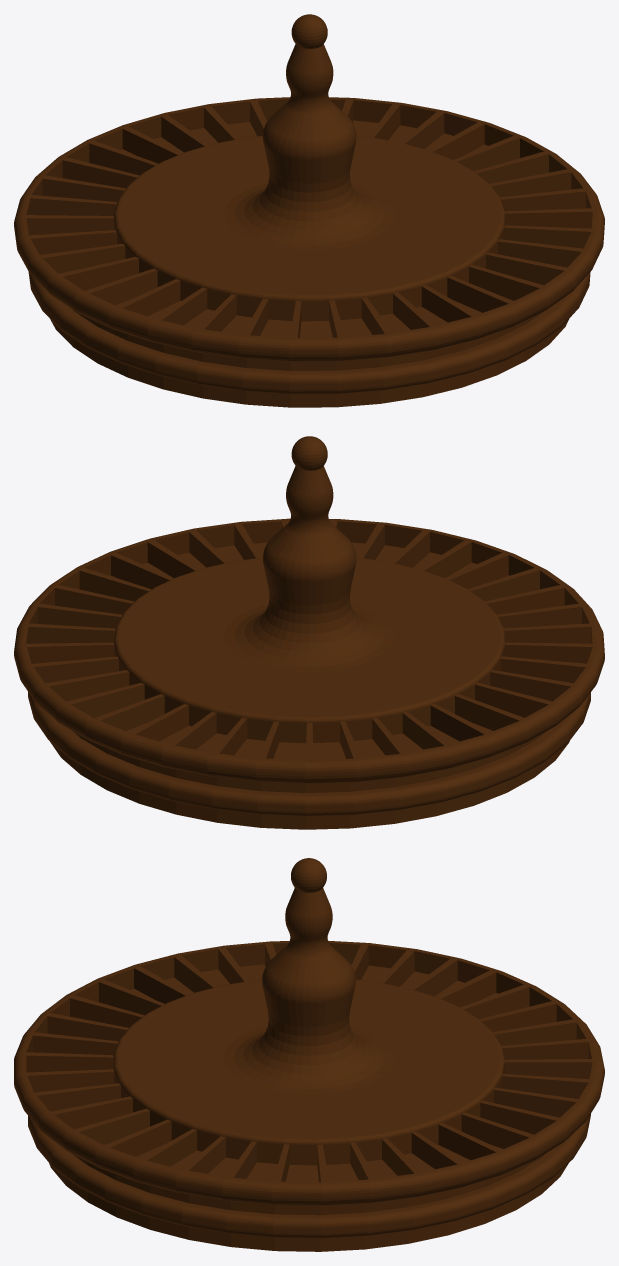
File: titble_wheel.glb
The picture shows the model from 3 angles, top to bottom: view 1: azimuth 30°, elevation 25°; view 2: azimuth 150°, elevation 25°; view 3: azimuth 270°, elevation 25°; orthographic projection.
Parts seen in each view (by area): view 1: cutout; view 2: cutout; view 3: cutout.
Boxes of the visible parts, x1=… form: cutout: x1=14, y1=14, x2=604, y2=407; cutout: x1=14, y1=436, x2=604, y2=829; cutout: x1=14, y1=858, x2=604, y2=1251.
Bounding box in the file's own units: 1.52 × 0.794 × 1.52.
